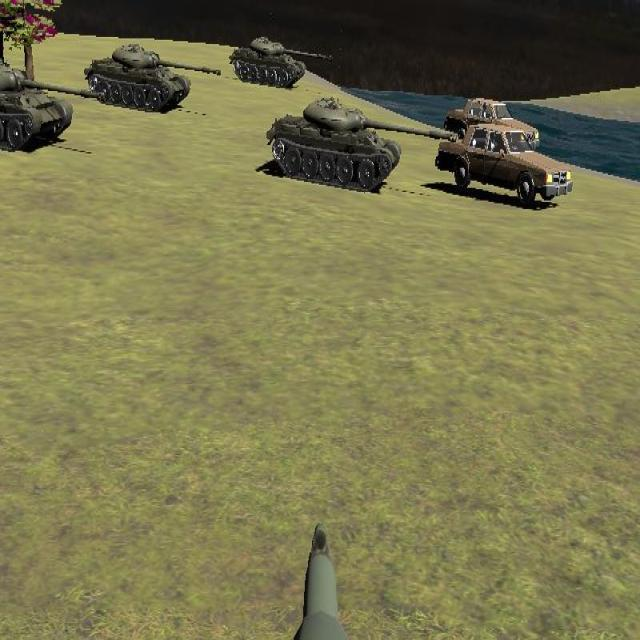Tank: (265, 98, 459, 193), (0, 53, 105, 153), (85, 42, 222, 114), (229, 34, 333, 89)
car: (436, 124, 574, 207), (441, 95, 541, 152)
